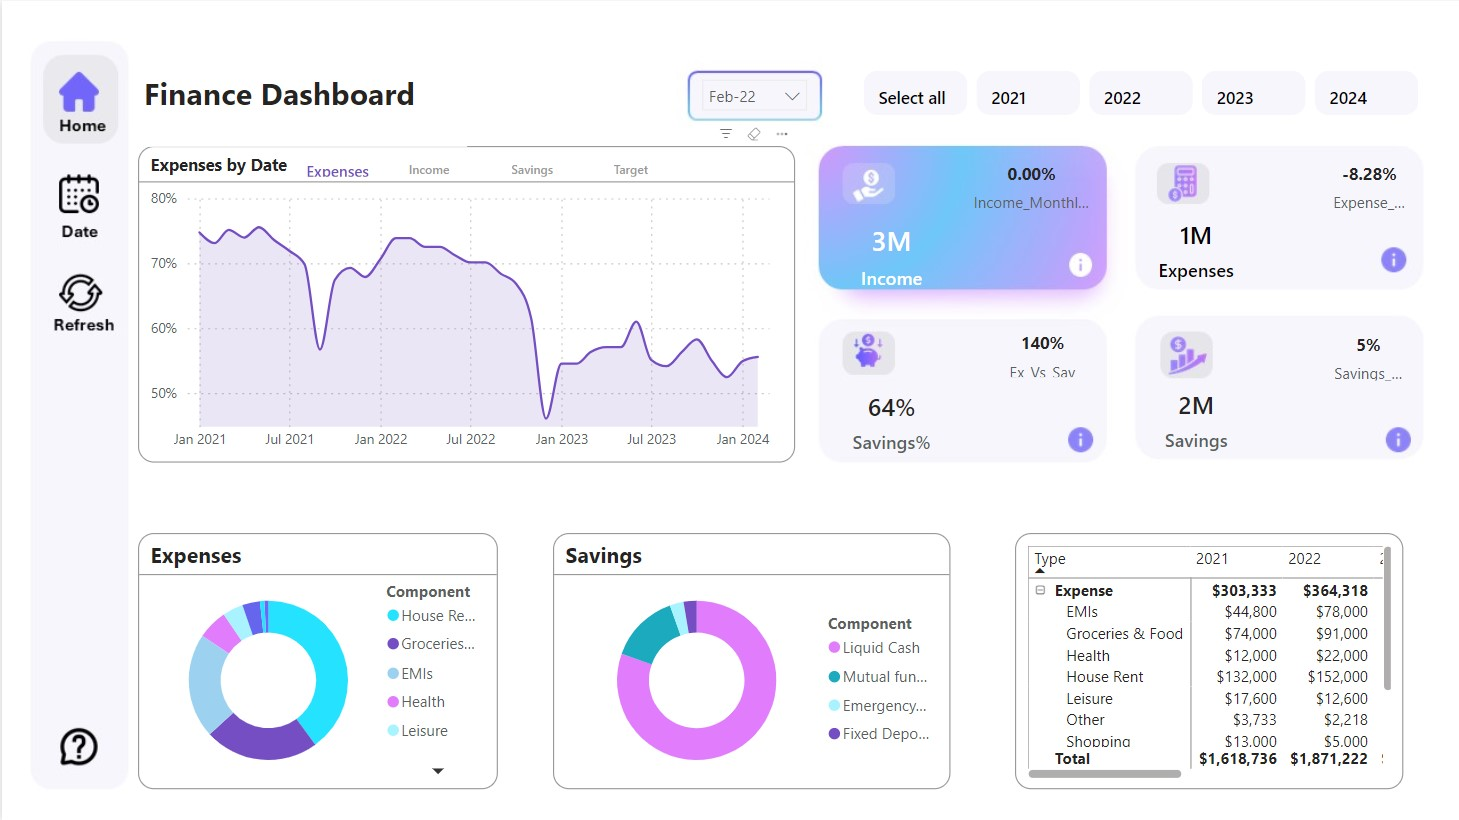

Layout of this report page (visuals, bound fields, positions):
{"tool":"powerbi","page":{"name":"Page 1","canvas":[1280,720],"ordinal":0},"visuals":[{"type":"areaChart","fields":{"Category":["Dataset.Date"],"Y":["Dataset.Line_Chart_Measures"]},"box":[119.5,127.6,577.2,278.5],"z":0},{"type":"card","fields":{"Values":["Dataset.Expenses"]},"box":[1000.6,180.6,95.1,73.5],"z":0},{"type":"advancedSlicerVisual","fields":{"Values":["Line_Selection_Table.Type"]},"box":[244.1,127.6,452.7,33.4],"z":1000},{"type":"card","fields":{"Values":["Dataset.Income"]},"box":[740.5,190.3,81.9,63.8],"z":1000},{"type":"card","fields":{"Values":["Dataset.Savings"]},"box":[1000.6,327.5,95.1,78.3],"z":2000},{"type":"card","fields":{"Values":["Dataset.Savings%"]},"box":[740.5,331.1,81.9,74.7],"z":3000},{"type":"advancedSlicerVisual","fields":{"Values":["Dataset.Year"]},"box":[751.4,56.6,498.5,49.4],"z":4000},{"type":"donutChart","title":"Expenses","fields":{"Category":["Dataset.Component"],"Y":["Dataset.Expenses"]},"box":[119.5,466.8,315.9,224.8],"z":5000},{"type":"donutChart","title":"Savings","fields":{"Y":["Dataset.Savings"],"Category":["Dataset.Component"]},"box":[484.1,466.8,349.4,224.8],"z":6000},{"type":"pivotTable","fields":{"Values":["Dataset.Total_Value"],"Rows":["Dataset.Type","Dataset.Component"],"Columns":["Dataset.Year"]},"box":[889.1,466.8,341.3,224.8],"z":7000},{"type":"textbox","box":[119.5,56.7,288.6,70.9],"z":9000},{"type":"slicer","fields":{"Values":["Selected_date.Month-Yr"]},"box":[605.7,63.8,110.8,34.9],"z":11000},{"type":"card","fields":{"Values":["Dataset.Income_Monthly_Gr"]},"box":[847.7,134.9,113.2,54.2],"z":12000},{"type":"card","fields":{"Values":["Dataset.Expense_Monthly_Gr"]},"box":[1160.8,134.9,79.5,54.2],"z":13000},{"type":"card","fields":{"Values":["Dataset.Ex_Vs_Sav"]},"box":[877.8,286.6,71,49.4],"z":14000},{"type":"card","fields":{"Values":["Dataset.Savings_Monthly_Gr"]},"box":[1162,286.6,75.9,51.8],"z":15000},{"type":"actionButton","box":[34.4,146.8,69.9,70.9],"z":16000},{"type":"actionButton","box":[34.1,235.6,69.5,61],"z":18000}]}

Visuals, with their boxes on the page's 1280x720 design canvas (x1, y1, x2, y2). These are canvas units, not pixel positions in the 1459x820 screenshot, which may show the page scaled, cropped or inside an application window:
areaChart - Dataset.Date x Dataset.Line_Chart_Measures: pyautogui.locateOnScreen(120, 128, 697, 406)
card - Dataset.Expenses: pyautogui.locateOnScreen(1001, 181, 1096, 254)
advancedSlicerVisual - Line_Selection_Table.Type: pyautogui.locateOnScreen(244, 128, 697, 161)
card - Dataset.Income: pyautogui.locateOnScreen(740, 190, 822, 254)
card - Dataset.Savings: pyautogui.locateOnScreen(1001, 328, 1096, 406)
card - Dataset.Savings%: pyautogui.locateOnScreen(740, 331, 822, 406)
advancedSlicerVisual - Dataset.Year: pyautogui.locateOnScreen(751, 57, 1250, 106)
"Expenses" donutChart: pyautogui.locateOnScreen(120, 467, 435, 692)
"Savings" donutChart: pyautogui.locateOnScreen(484, 467, 834, 692)
pivotTable - Dataset.Total_Value x Dataset.Type: pyautogui.locateOnScreen(889, 467, 1230, 692)
textbox: pyautogui.locateOnScreen(120, 57, 408, 128)
slicer - Selected_date.Month-Yr: pyautogui.locateOnScreen(606, 64, 716, 99)
card - Dataset.Income_Monthly_Gr: pyautogui.locateOnScreen(848, 135, 961, 189)
card - Dataset.Expense_Monthly_Gr: pyautogui.locateOnScreen(1161, 135, 1240, 189)
card - Dataset.Ex_Vs_Sav: pyautogui.locateOnScreen(878, 287, 949, 336)
card - Dataset.Savings_Monthly_Gr: pyautogui.locateOnScreen(1162, 287, 1238, 338)
actionButton: pyautogui.locateOnScreen(34, 147, 104, 218)
actionButton: pyautogui.locateOnScreen(34, 236, 104, 297)
